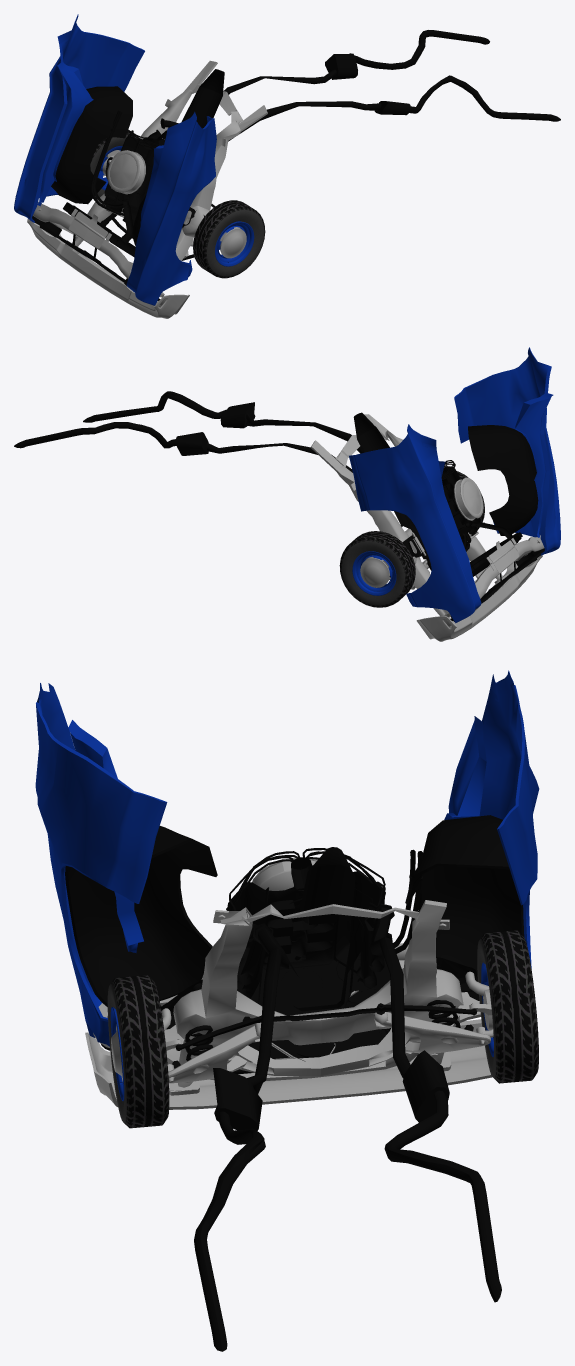
Rendered from Crash9.fbx.
3 views of the same model, one above another, from view 1: azimuth 30°, elevation 25°; view 2: azimuth 150°, elevation 25°; view 3: azimuth 270°, elevation 25° (orthographic). The views are drawn at different scales.
Visible parts, largest first — view 1: Mesh_0601_rip, Mesh_0592_rip, Mesh_0523_rip, Mesh_0573_rip, Mesh_0050_rip.000, Mesh_0610_rip, Mesh_0556_rip, Mesh_0589_rip, Mesh_0662_rip, Mesh_0628_rip, Mesh_0656_rip, Mesh_0654_rip (+6 smaller); view 2: Mesh_0592_rip, Mesh_0601_rip, Mesh_0541_rip, Mesh_0050_rip.003, Mesh_0573_rip, Mesh_0589_rip, Mesh_0556_rip, Mesh_0610_rip, Mesh_0628_rip, Mesh_0662_rip, Mesh_0656_rip, Mesh_0649_rip (+4 smaller); view 3: Mesh_0601_rip, Mesh_0573_rip, Mesh_0541_rip, Mesh_0662_rip, Mesh_0592_rip, Mesh_0523_rip, Mesh_0556_rip, Mesh_0589_rip, Mesh_0050_rip.000, Mesh_0050_rip.003, Mesh_0610_rip, Mesh_0538_rip (+9 smaller).
Part boxes in pixels (box(x1,y1,x2,y2)): Mesh_0601_rip: box(126, 111, 216, 305); Mesh_0592_rip: box(14, 14, 144, 222); Mesh_0523_rip: box(51, 86, 132, 204); Mesh_0573_rip: box(70, 60, 267, 260); Mesh_0050_rip.000: box(193, 200, 265, 278); Mesh_0610_rip: box(27, 208, 189, 318); Mesh_0556_rip: box(160, 30, 489, 128); Mesh_0589_rip: box(228, 75, 560, 141); Mesh_0662_rip: box(91, 110, 165, 225); Mesh_0628_rip: box(33, 201, 164, 297); Mesh_0656_rip: box(106, 150, 145, 217); Mesh_0654_rip: box(158, 69, 224, 139); Mesh_0592_rip: box(349, 424, 481, 623); Mesh_0601_rip: box(454, 347, 560, 555); Mesh_0541_rip: box(468, 425, 538, 536); Mesh_0050_rip.003: box(339, 531, 415, 607); Mesh_0573_rip: box(310, 414, 507, 618); Mesh_0589_rip: box(83, 391, 363, 453); Mesh_0556_rip: box(14, 422, 352, 472); Mesh_0610_rip: box(416, 555, 542, 641); Mesh_0628_rip: box(442, 535, 544, 617); Mesh_0662_rip: box(394, 460, 480, 560); Mesh_0656_rip: box(426, 477, 483, 564); Mesh_0649_rip: box(352, 551, 396, 595); Mesh_0601_rip: box(35, 683, 167, 1046); Mesh_0573_rip: box(169, 900, 463, 1090); Mesh_0541_rip: box(65, 826, 217, 1006); Mesh_0662_rip: box(226, 848, 423, 1061); Mesh_0592_rip: box(444, 670, 539, 968); Mesh_0523_rip: box(405, 815, 524, 992); Mesh_0556_rip: box(369, 903, 501, 1302); Mesh_0589_rip: box(194, 925, 289, 1351); Mesh_0050_rip.000: box(107, 975, 169, 1128); Mesh_0050_rip.003: box(477, 930, 538, 1083); Mesh_0610_rip: box(85, 1019, 492, 1109); Mesh_0538_rip: box(168, 1012, 490, 1083).
Size of the model in its own units: 11.02 by 5.07 by 5.2.
Materials: 5 (1 with a texture image).
